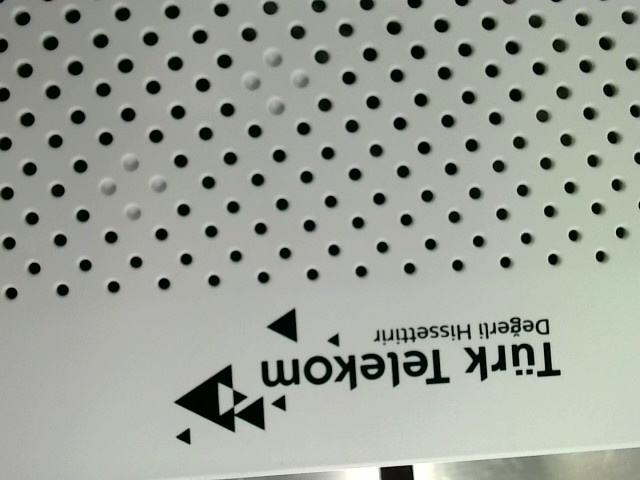AQ_TURKTelekom: (163, 302, 576, 446)
